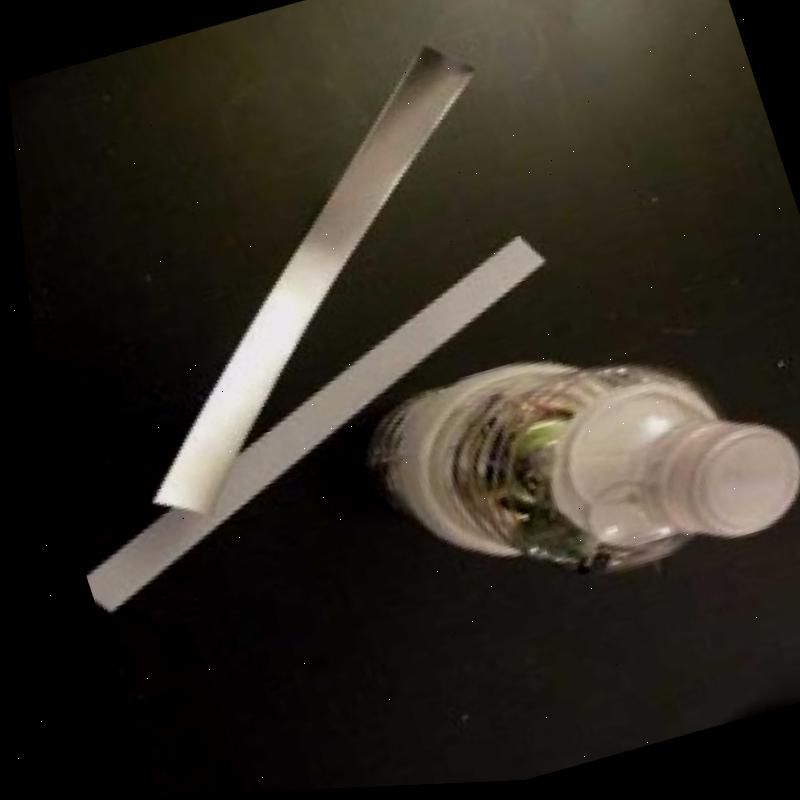botella: (337, 297, 800, 630)
